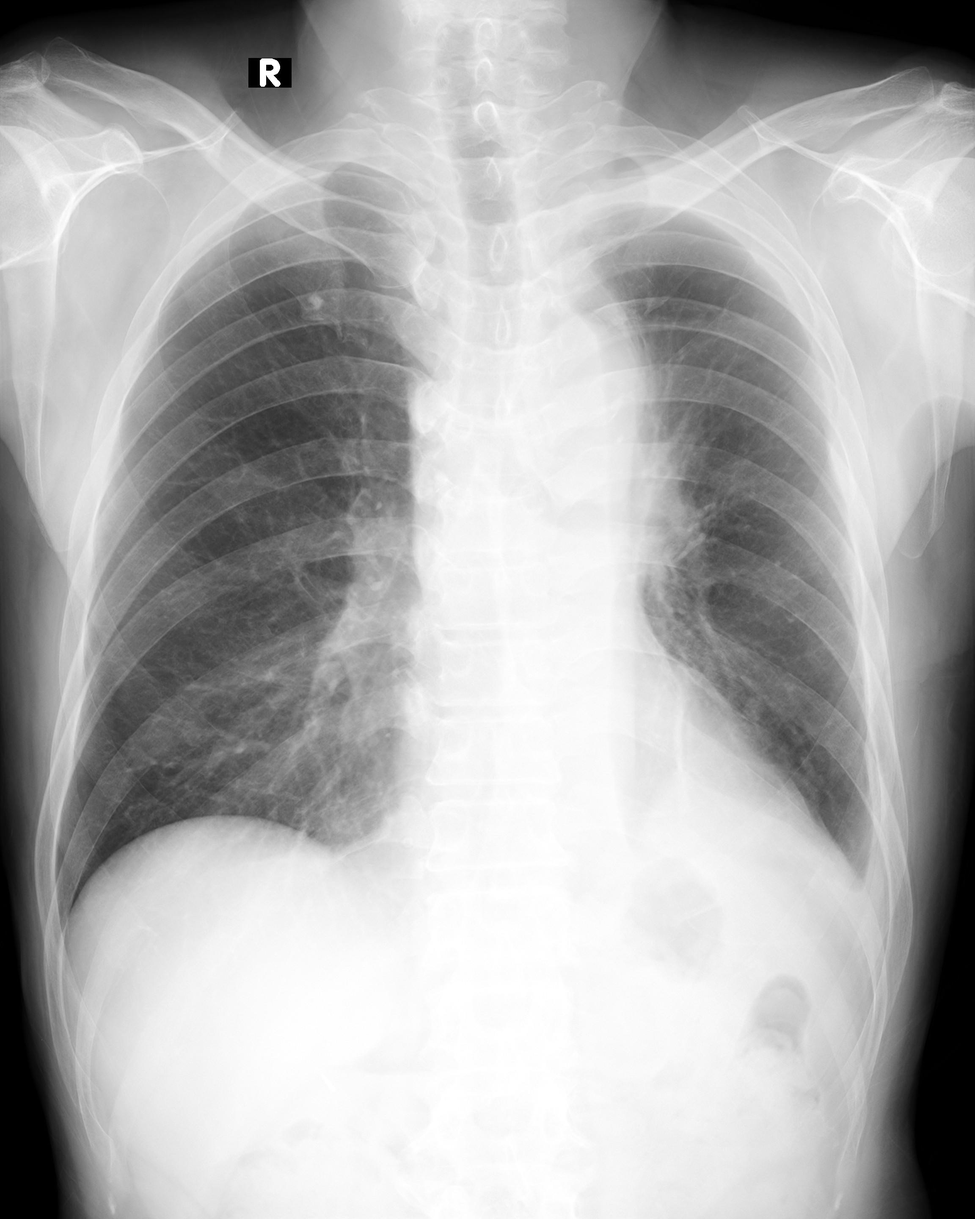Aortic enlargement: (502, 309, 642, 483)
Cardiomegaly: (397, 741, 863, 890)
Pleural thickening: (849, 830, 888, 911)
